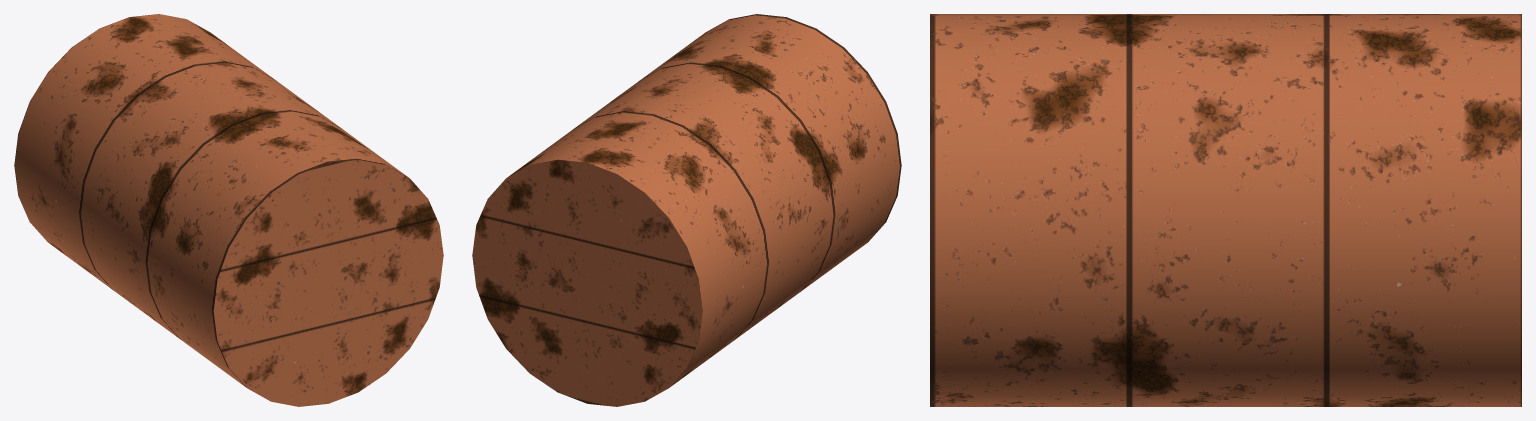
The model's file is rustybarrel.obj.
3 views of the same model, side by side, from view 1: azimuth 30°, elevation 25°; view 2: azimuth 150°, elevation 25°; view 3: azimuth 270°, elevation 25° (orthographic). The views are drawn at different scales.
Parts seen in each view (by area): view 1: Cylinder001; view 2: Cylinder001; view 3: Cylinder001.
Boxes of the visible parts, bbox=[...] form: Cylinder001: bbox=[14, 14, 443, 406]; Cylinder001: bbox=[472, 14, 901, 406]; Cylinder001: bbox=[930, 14, 1521, 406].
Bounding box in the file's own units: 39.37 × 39.37 × 59.06.
